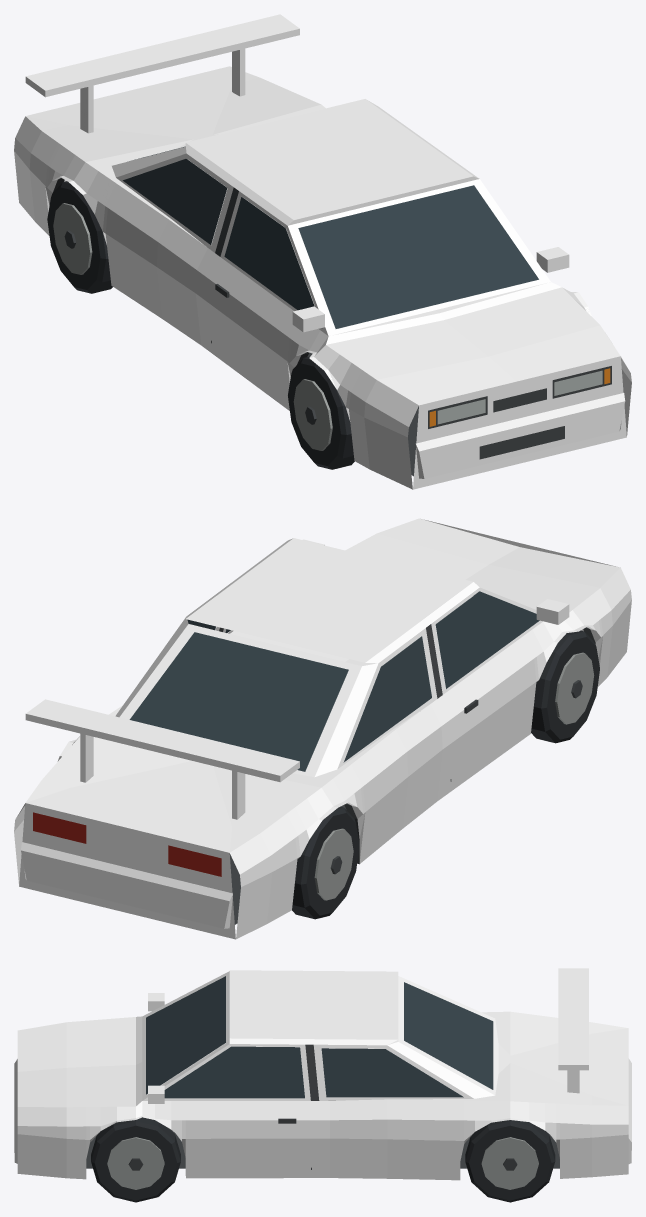
The model's file is hozuki_fubuki_corrida_99.glb.
The picture shows the model from 3 angles, top to bottom: view 1: azimuth 30°, elevation 25°; view 2: azimuth 150°, elevation 25°; view 3: azimuth 270°, elevation 25°; orthographic projection. The views are drawn at different scales.
Parts seen in each view (by area): view 1: hozuki_fubuki_corrida_99; view 2: hozuki_fubuki_corrida_99; view 3: hozuki_fubuki_corrida_99.
Part boxes in pixels (left/top/right/bottom): hozuki_fubuki_corrida_99: left=14, top=14, right=631, bottom=489; hozuki_fubuki_corrida_99: left=14, top=518, right=631, bottom=939; hozuki_fubuki_corrida_99: left=14, top=968, right=631, bottom=1202.
Bounding box in the file's own units: 1.74 × 1.19 × 4.44.
8 materials, 1 textured.
